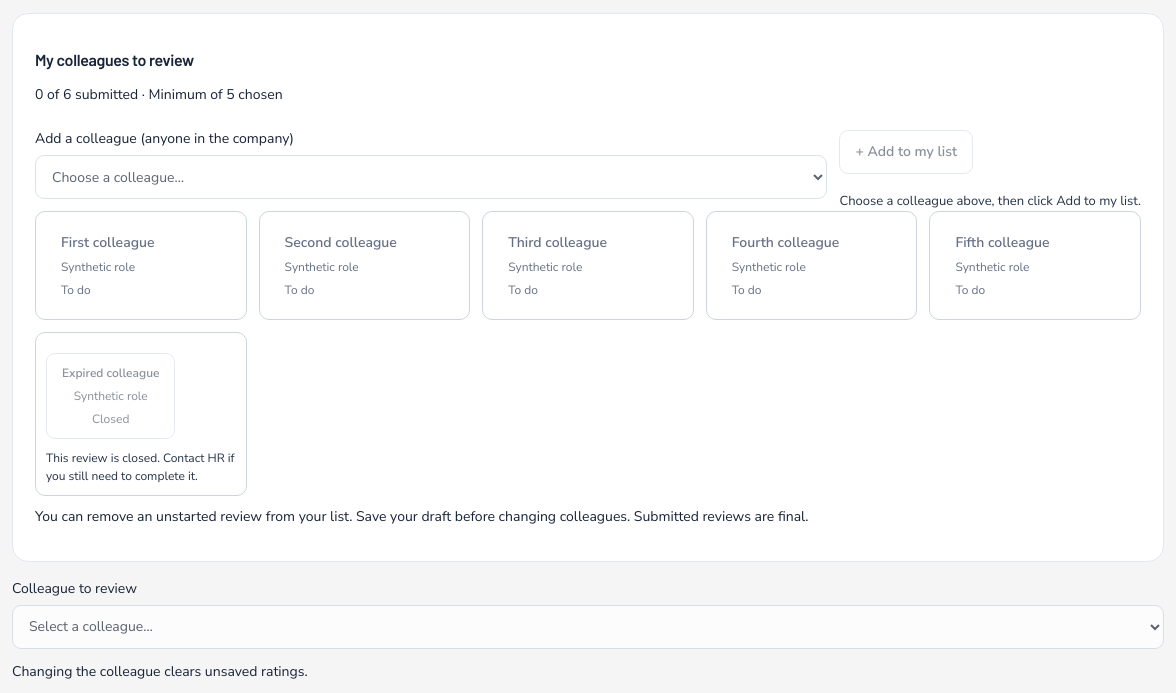
Test: submits selected task using V3 scale and removes it after success
Earlier steps of the test are not shown.
Later steps or results of the test are not shown.
(page scrolled)
Select "Select a colleague…" in the dropdown named "Colleague to review" at (588, 627), box top-left (12, 605), bottom-right (1164, 649)
(page scrolled)
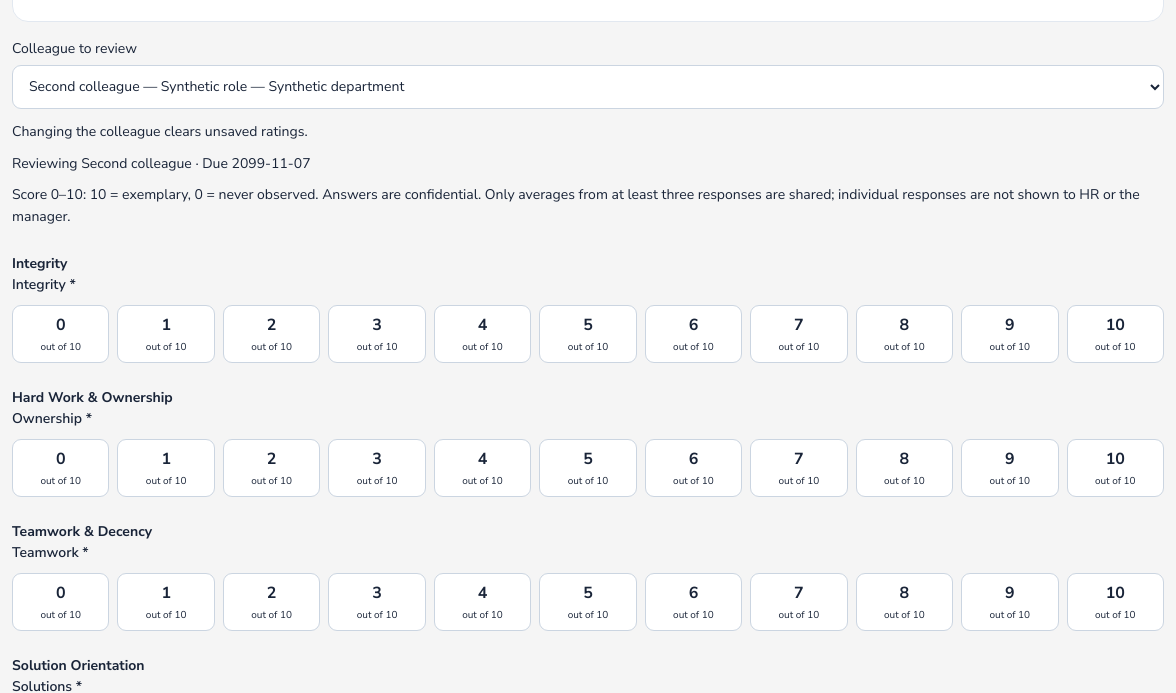
Click the 1st radio button labelled "8 out of 10".
click(904, 334)  # box top-left (856, 305), bottom-right (953, 363)
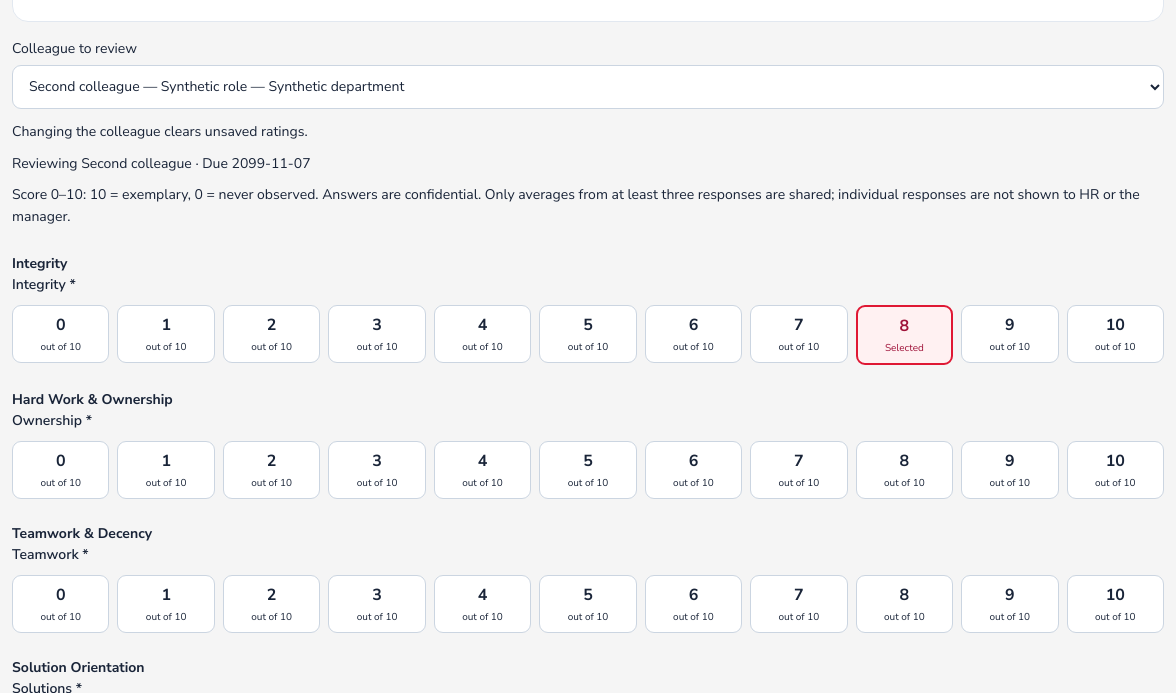
Check: the radio button labelled "8 Selected" is checked, box top-left (856, 305), bottom-right (953, 365)
Click the 1st radio button labelled "8 out of 10".
click(904, 470)  # box top-left (856, 441), bottom-right (953, 499)
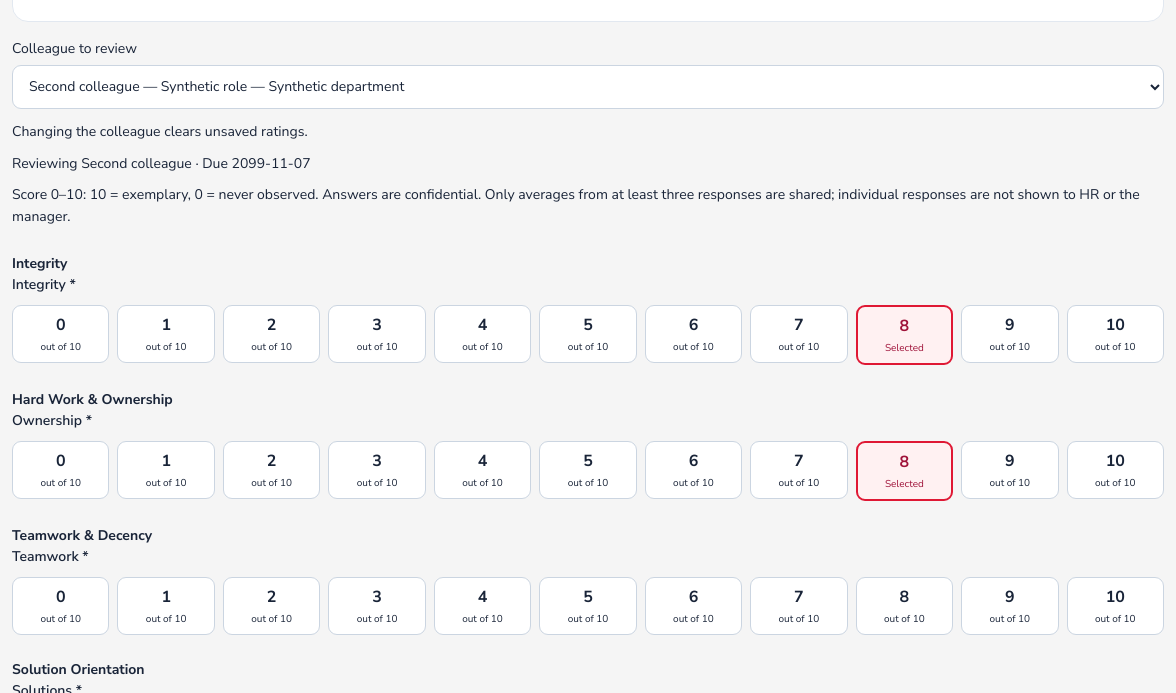
Check: the 2nd radio button labelled "8 Selected" is checked, box top-left (856, 441), bottom-right (953, 501)
Click the radio button labelled "8 out of 10".
click(904, 606)  # box top-left (856, 577), bottom-right (953, 635)
(page scrolled)
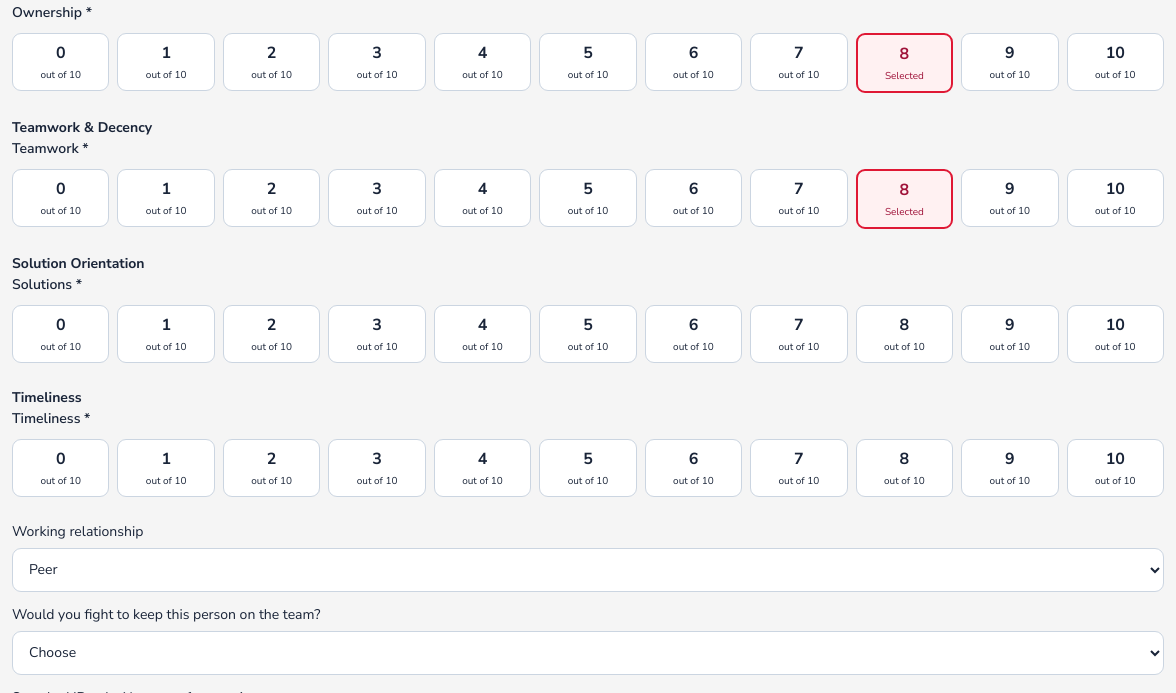
Check: the 2nd radio button labelled "8 Selected" is checked, box top-left (856, 169), bottom-right (953, 229)
Click the 1st radio button labelled "8 out of 10".
click(904, 334)  # box top-left (856, 305), bottom-right (953, 363)
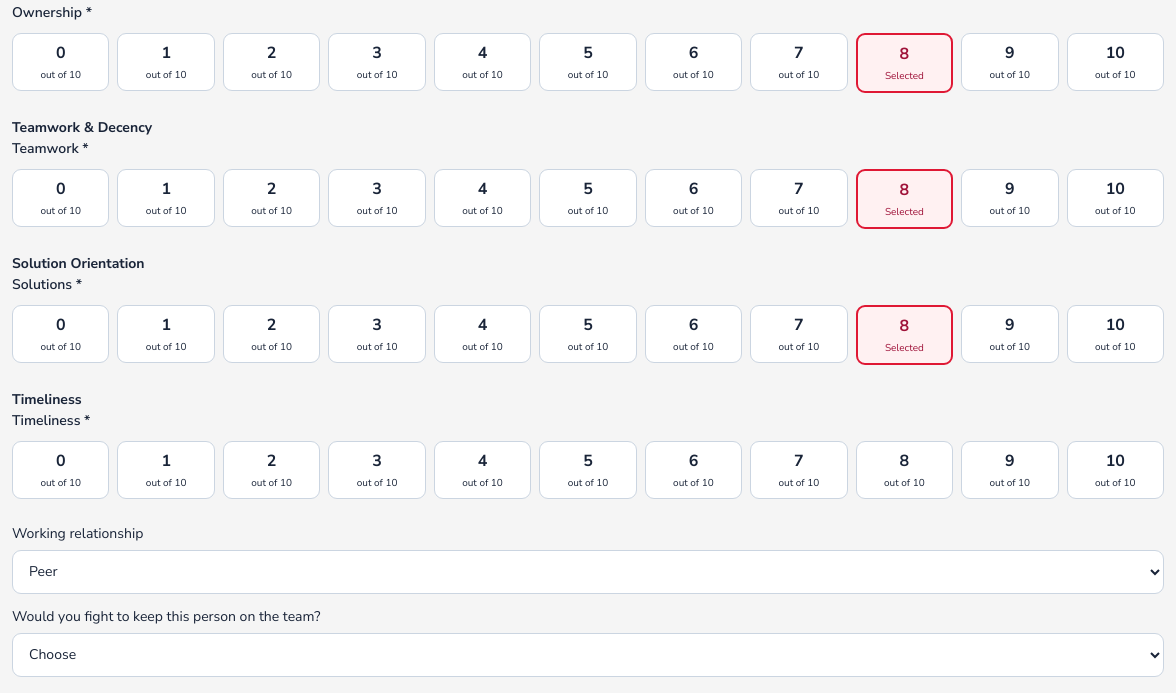
Check: the 3rd radio button labelled "8 Selected" is checked, box top-left (856, 305), bottom-right (953, 365)
Click the radio button labelled "8 out of 10".
click(904, 470)  # box top-left (856, 441), bottom-right (953, 499)
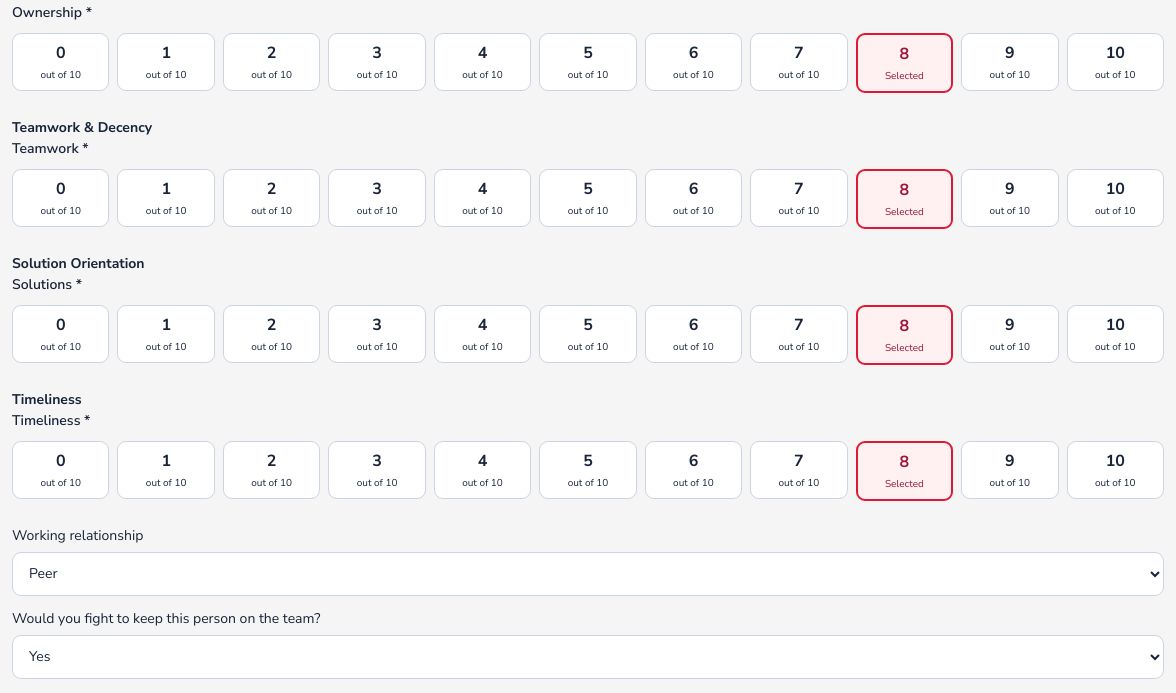
Check: the 4th radio button labelled "8 Selected" is checked, box top-left (856, 441), bottom-right (953, 501)
